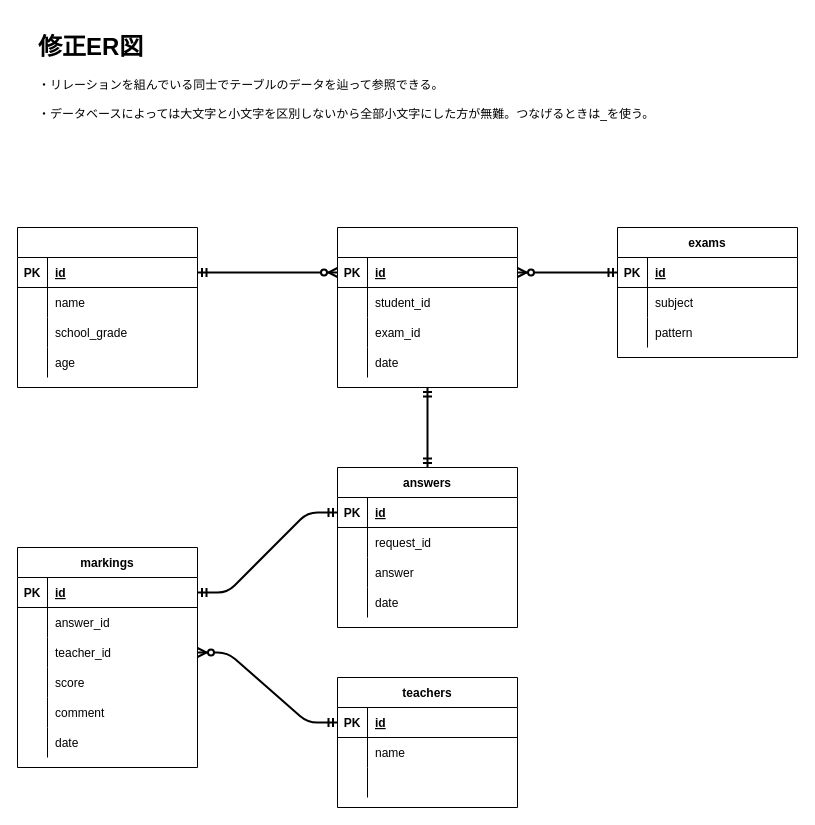
Image size: 815x825. Some labels were removed from this diagram. The box of each missing label's shape, as (x1, y1, x2, y2) in pixels:
exam_requests: (336, 226, 518, 388)
studens: (16, 226, 198, 388)
